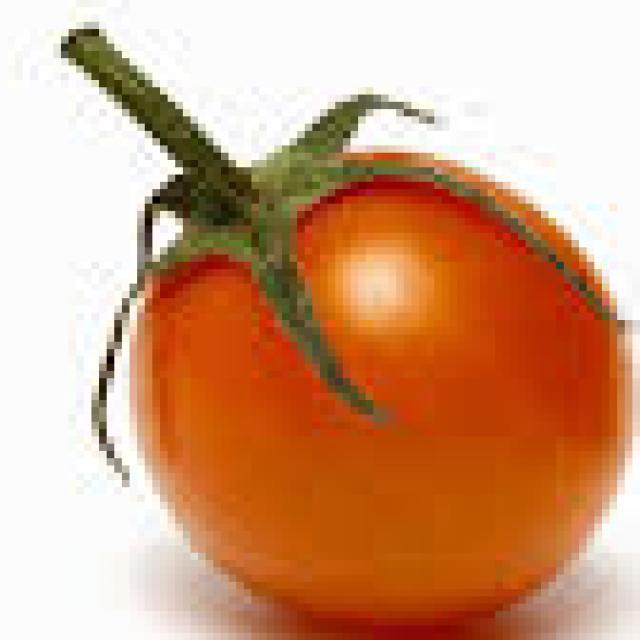Healthy: (136, 127, 632, 640)
